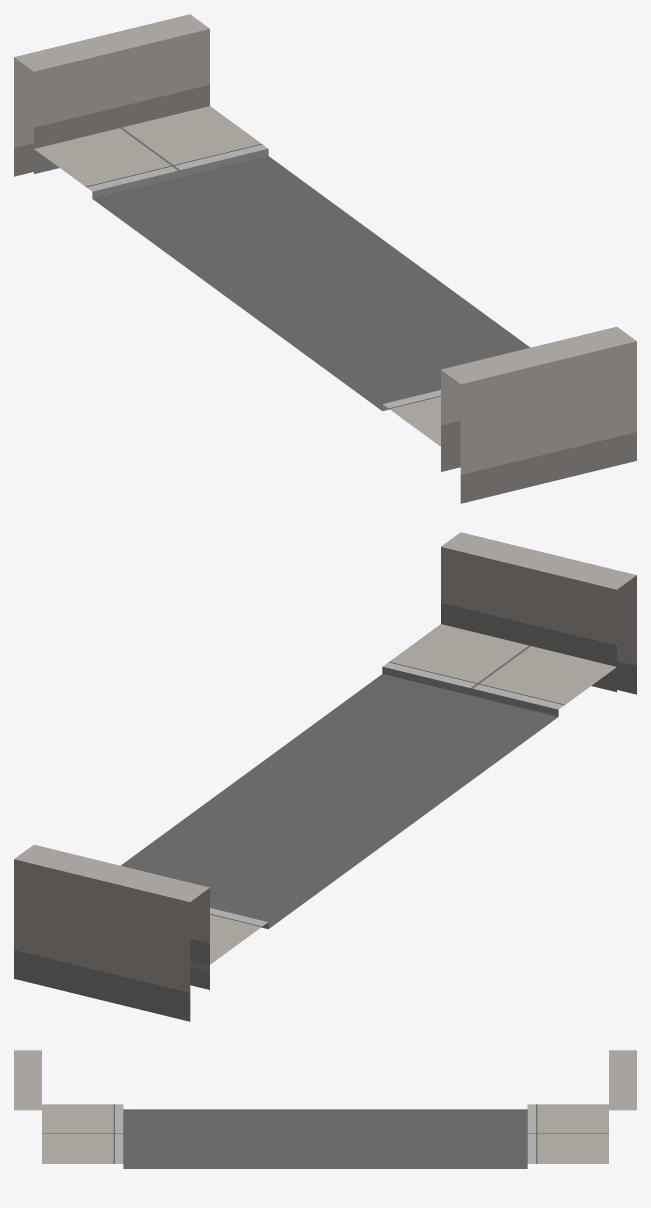
Rendered from Env_Road_Ramp.fbx.
3 renders of one model, top to bottom at view 1: azimuth 30°, elevation 25°; view 2: azimuth 150°, elevation 25°; view 3: azimuth 270°, elevation 25°, orthographic. The views are drawn at different scales.
Parts seen in each view (by area): view 1: Env_Road_Ramp; view 2: Env_Road_Ramp; view 3: Env_Road_Ramp.
Boxes of the visible parts, x1=… form: Env_Road_Ramp: x1=14, y1=14, x2=636, y2=503; Env_Road_Ramp: x1=14, y1=532, x2=636, y2=1021; Env_Road_Ramp: x1=14, y1=1050, x2=636, y2=1168.
Size of the model in its own units: 5 by 3.24 by 21.96.
